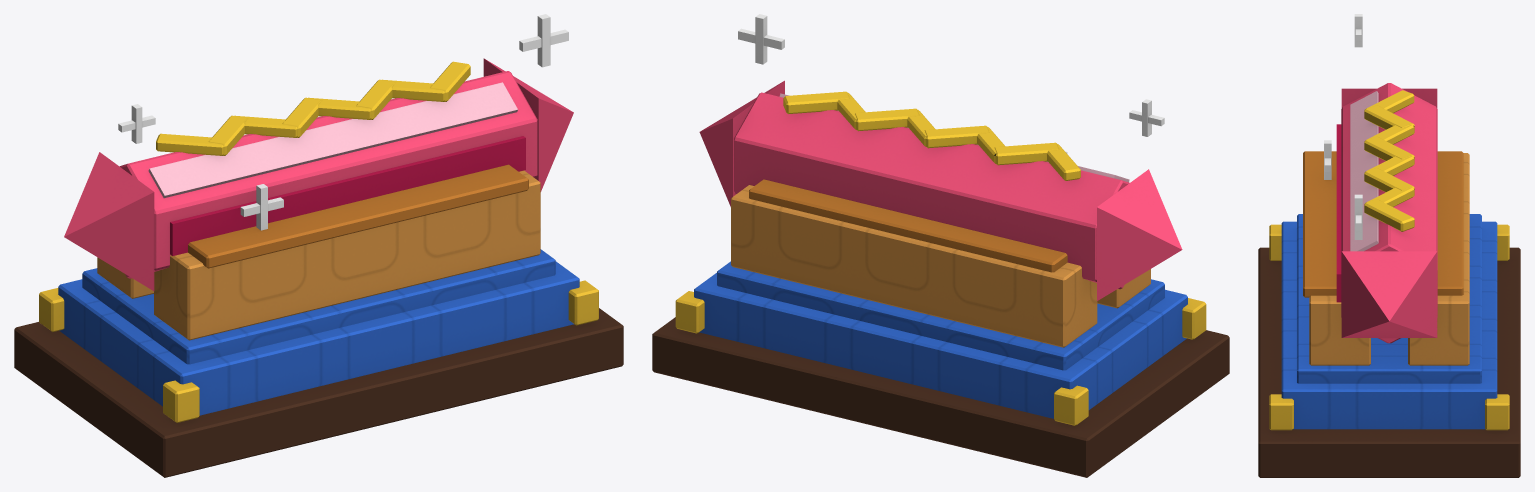
The model's file is CrystalHotDog.fbx.
The picture shows the model from 3 angles, left to right: view 1: azimuth 30°, elevation 25°; view 2: azimuth 150°, elevation 25°; view 3: azimuth 270°, elevation 25°; orthographic projection. The views are drawn at different scales.
Parts seen in each view (by area): view 1: Art_CrystalHotDog; view 2: Art_CrystalHotDog; view 3: Art_CrystalHotDog.
Boxes of the visible parts, <box> form: Art_CrystalHotDog: <box>14,14,623,477</box>; Art_CrystalHotDog: <box>652,14,1229,477</box>; Art_CrystalHotDog: <box>1258,14,1520,477</box>.
Bounding box in the file's own units: 3.32 × 2.01 × 1.7.
